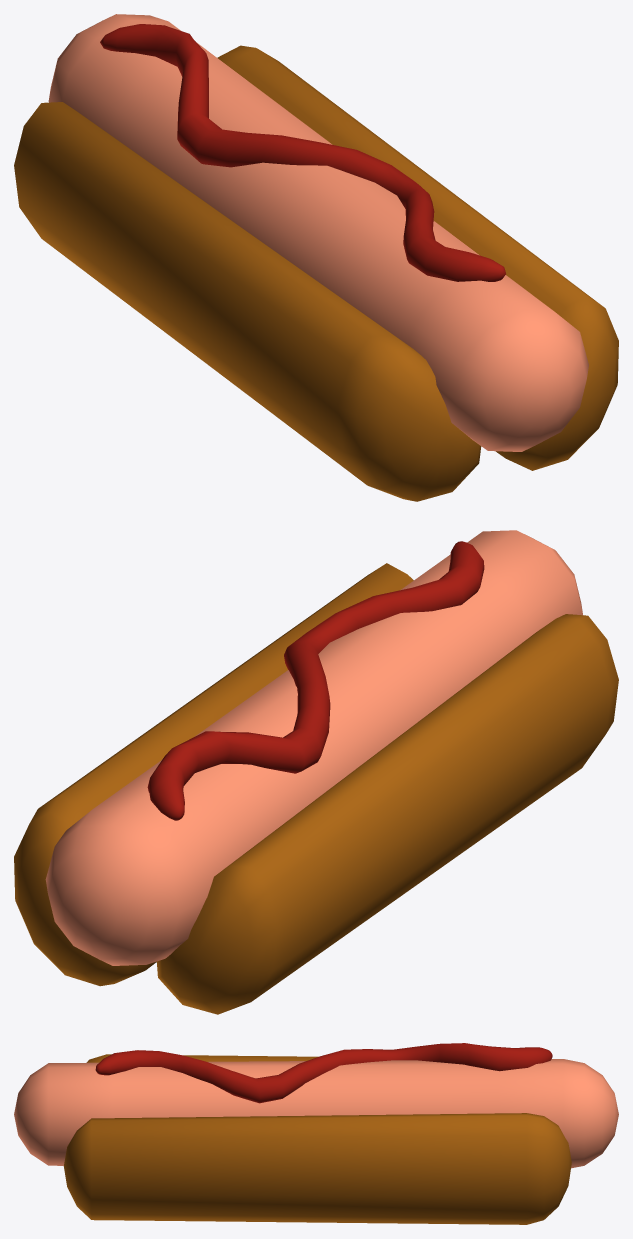
File: Panchito.fbx
3 views of the same model, one above another, from view 1: azimuth 30°, elevation 25°; view 2: azimuth 150°, elevation 25°; view 3: azimuth 270°, elevation 25° (orthographic). The views are drawn at different scales.
Parts seen in each view (by area): view 1: Sphere.003; view 2: Sphere.003; view 3: Sphere.003.
Boxes of the visible parts, x1=… form: Sphere.003: x1=14, y1=14, x2=618, y2=501; Sphere.003: x1=14, y1=530, x2=618, y2=1014; Sphere.003: x1=14, y1=1043, x2=618, y2=1224.
Size of the model in its own units: 377 by 306 by 1085.
